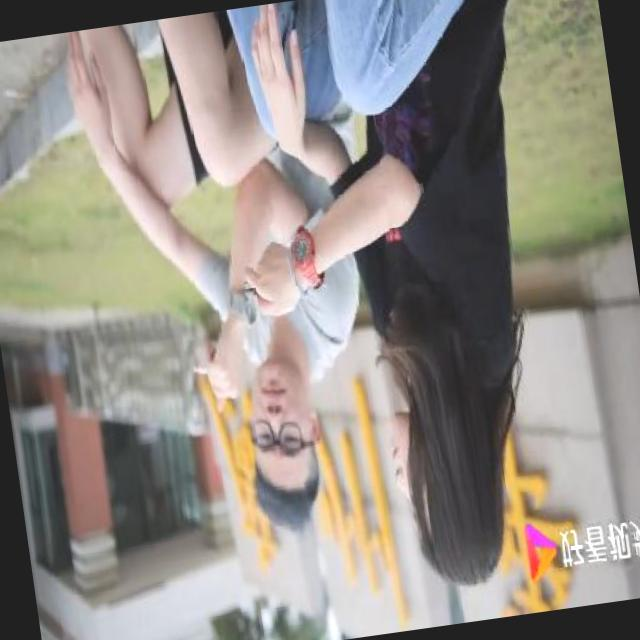cigarette: (186, 356, 217, 386)
